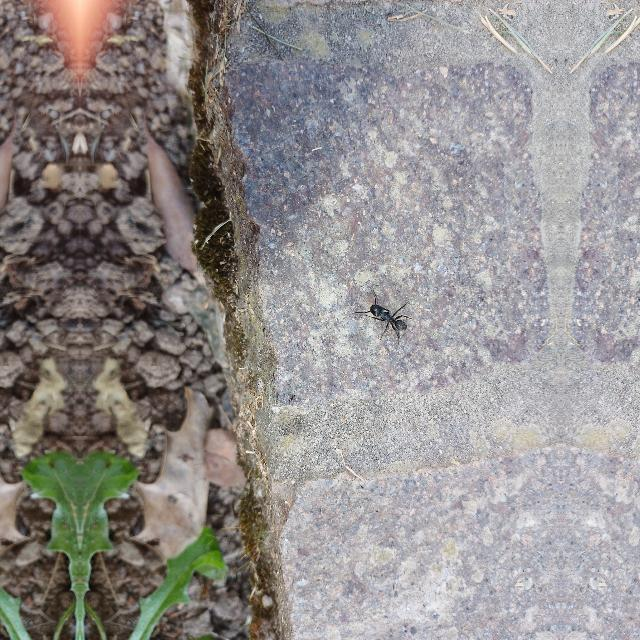Camponotus: (362, 290, 411, 340)
